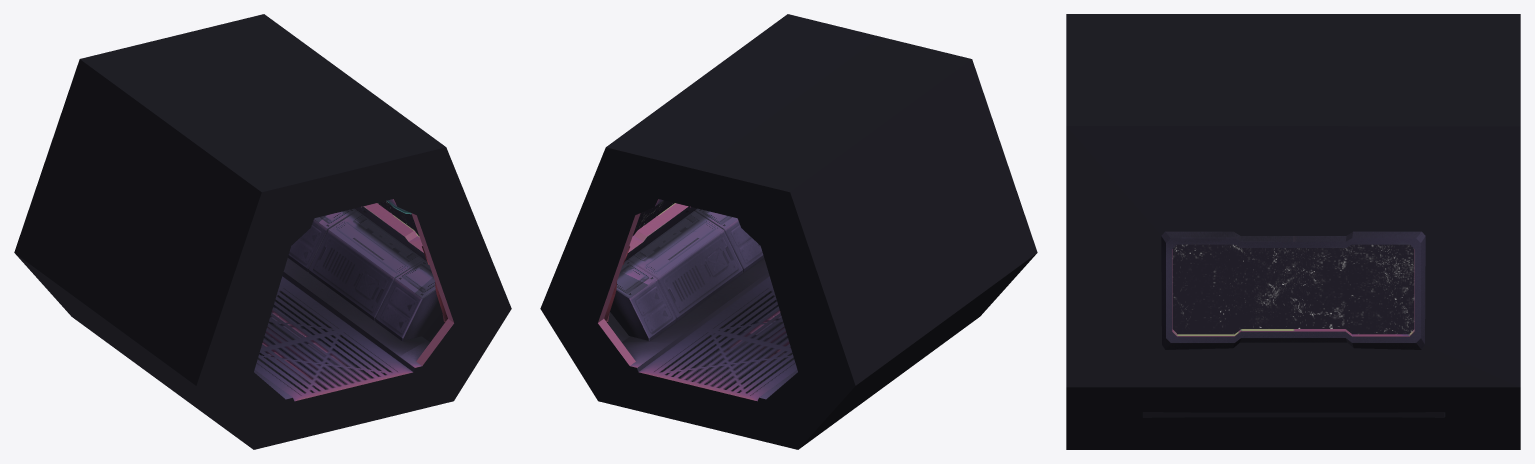
Rendered from mod_Straight_1.glb.
3 renders of one model, left to right at view 1: azimuth 30°, elevation 25°; view 2: azimuth 150°, elevation 25°; view 3: azimuth 270°, elevation 25°, orthographic. The views are drawn at different scales.
Parts seen in each view (by area): view 1: Straight_1; view 2: Straight_1; view 3: Straight_1.
Part boxes in pixels (<box>): Straight_1: <box>14,14,511,449</box>; Straight_1: <box>540,14,1037,449</box>; Straight_1: <box>1066,14,1520,449</box>.
Size of the model in its own units: 5 by 3.88 by 5.
Materials: 3 (3 with a texture image).
